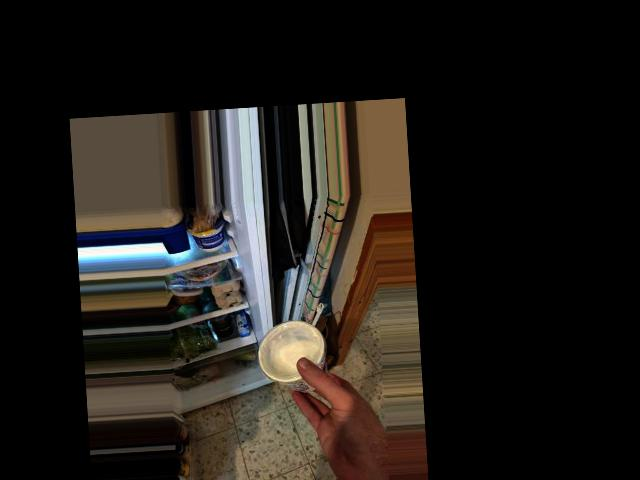cotage: (257, 310, 329, 399)
